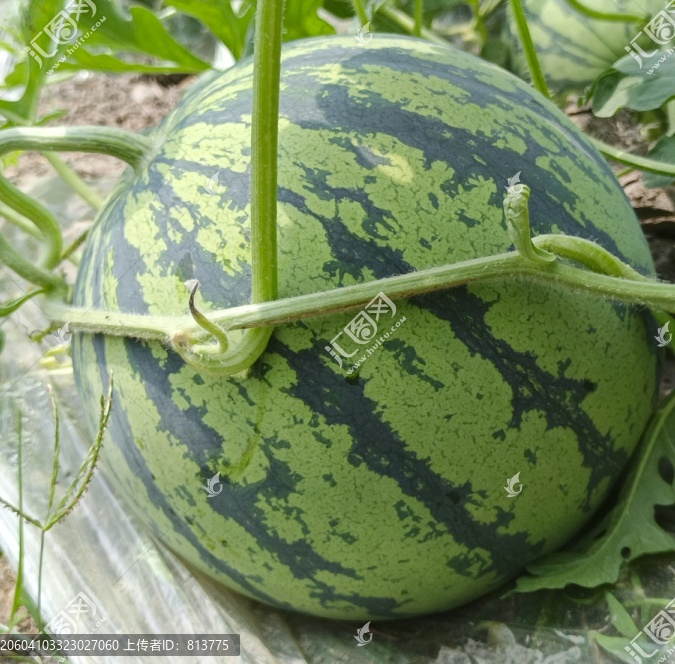watermelon: (80, 33, 664, 628)
